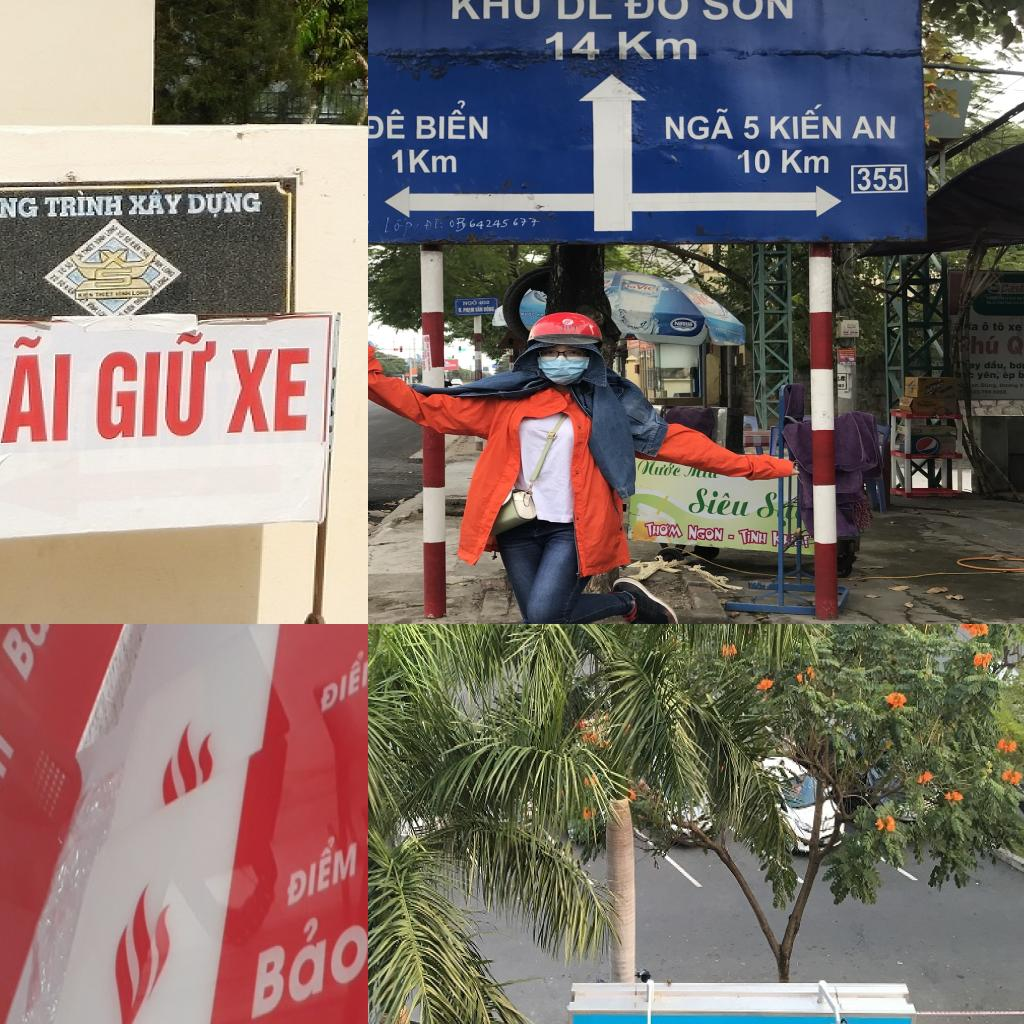text: (88, 328, 222, 446), (256, 893, 368, 988), (0, 330, 77, 450), (224, 343, 316, 438), (282, 819, 362, 912), (540, 28, 705, 66), (0, 624, 65, 695), (318, 635, 368, 717), (413, 100, 491, 142), (734, 146, 836, 178), (767, 102, 844, 142), (42, 188, 127, 222), (659, 104, 735, 142), (684, 485, 756, 521), (185, 188, 268, 219), (699, 0, 797, 24), (447, 212, 545, 236), (390, 148, 463, 178), (446, 0, 542, 21), (126, 187, 186, 219), (621, 0, 693, 26), (850, 110, 903, 142), (851, 165, 908, 192), (368, 106, 408, 141), (0, 190, 43, 221), (556, 0, 615, 22), (379, 213, 421, 238), (636, 458, 686, 478), (639, 519, 686, 540), (686, 522, 726, 544), (684, 286, 718, 308), (741, 112, 764, 141), (736, 527, 768, 546), (1006, 333, 1024, 362), (423, 214, 444, 234), (623, 280, 658, 292), (925, 378, 947, 396), (1001, 282, 1024, 294), (983, 360, 1008, 370), (976, 371, 1000, 381), (972, 389, 1009, 395), (558, 324, 580, 332), (1008, 359, 1024, 370), (992, 320, 1006, 332), (674, 320, 694, 328), (1002, 370, 1016, 381), (999, 382, 1020, 389), (1008, 322, 1022, 332), (520, 310, 536, 318), (460, 299, 478, 306), (980, 382, 998, 389), (980, 321, 991, 331), (484, 305, 495, 313), (836, 374, 846, 382), (463, 307, 475, 313), (728, 532, 736, 541), (969, 382, 980, 388), (1017, 370, 1024, 379), (479, 300, 491, 305), (536, 312, 546, 317), (475, 306, 483, 312), (708, 324, 716, 330), (458, 307, 464, 313), (1019, 381, 1024, 388)
